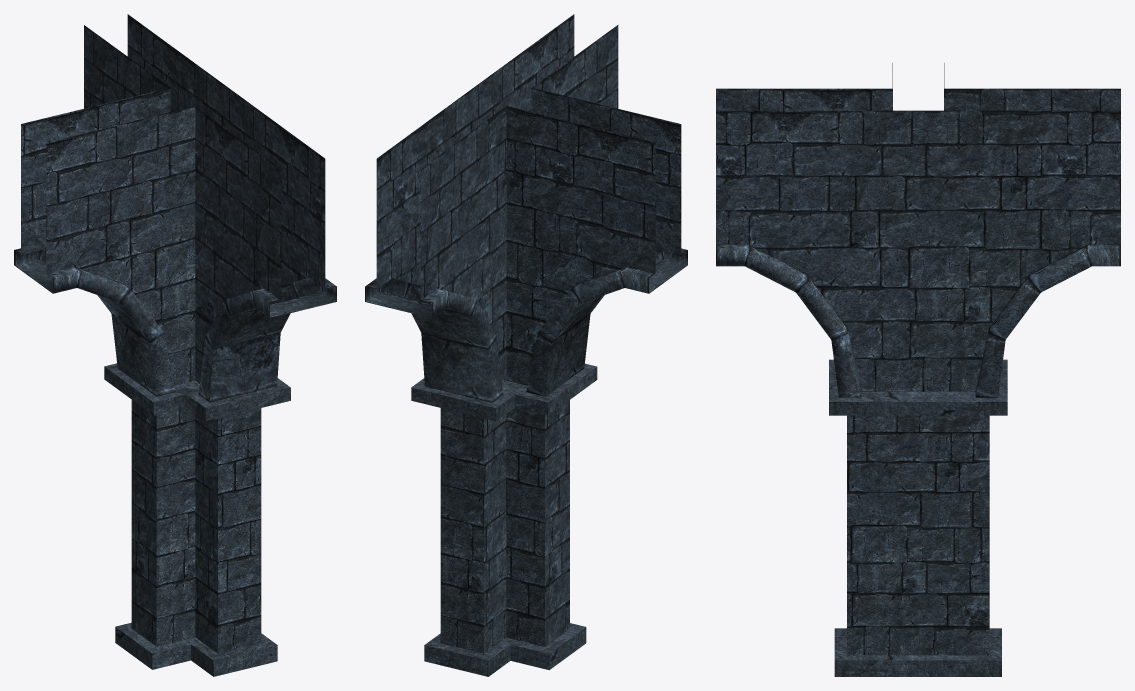
Rendered from Arch_3side.FBX.
3 renders of one model, left to right at view 1: azimuth 30°, elevation 25°; view 2: azimuth 150°, elevation 25°; view 3: azimuth 270°, elevation 25°, orthographic. The views are drawn at different scales.
Visible parts, largest first — view 1: Arch_3side; view 2: Arch_3side; view 3: Arch_3side.
Boxes of the visible parts, x1,y1,x2,y2 form: Arch_3side: (14, 14, 336, 676); Arch_3side: (365, 14, 687, 676); Arch_3side: (716, 63, 1120, 676).
Bounding box in the file's own units: 28.7 × 70.27 × 45.92.
2 materials, 2 textured.
